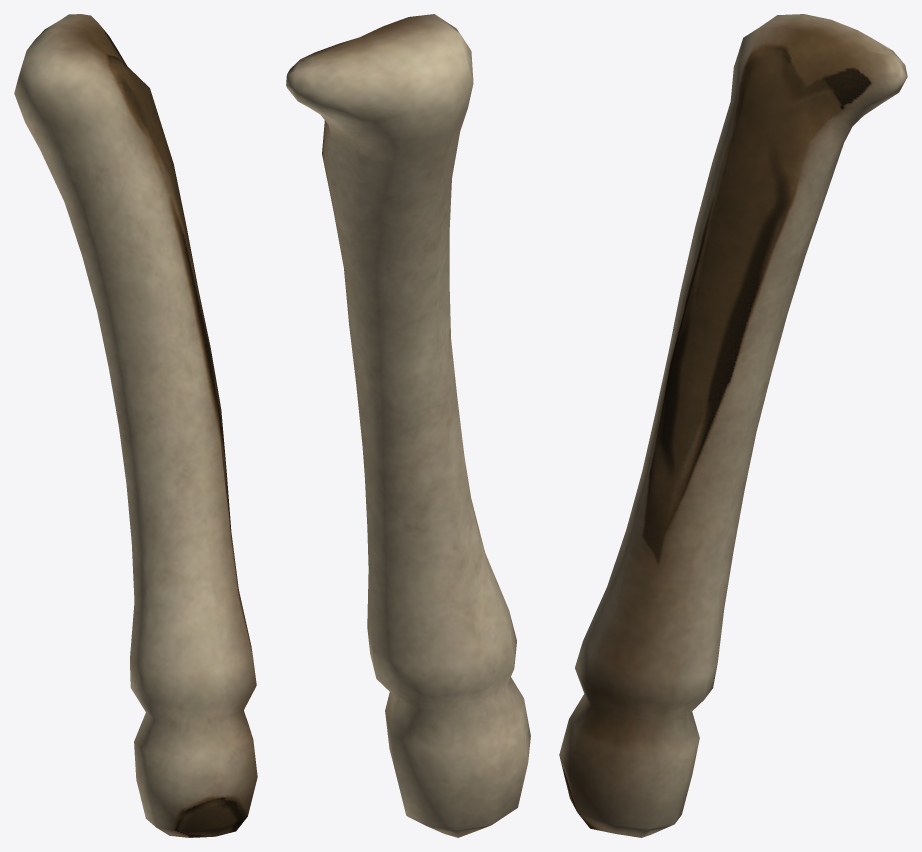
Rendered from Metatarsal_V.glb.
The picture shows the model from 3 angles, left to right: view 1: azimuth 30°, elevation 25°; view 2: azimuth 150°, elevation 25°; view 3: azimuth 270°, elevation 25°; orthographic projection. The views are drawn at different scales.
Parts seen in each view (by area): view 1: Metatarsal_V_Right1:Group55337; view 2: Metatarsal_V_Right1:Group55337; view 3: Metatarsal_V_Right1:Group55337.
Boxes of the visible parts, x1=… form: Metatarsal_V_Right1:Group55337: x1=14, y1=14, x2=257, y2=837; Metatarsal_V_Right1:Group55337: x1=286, y1=14, x2=530, y2=837; Metatarsal_V_Right1:Group55337: x1=559, y1=14, x2=907, y2=837.
Size of the model in its own units: 10.73 by 52.16 by 21.01.
Materials: 1 (1 with a texture image).
